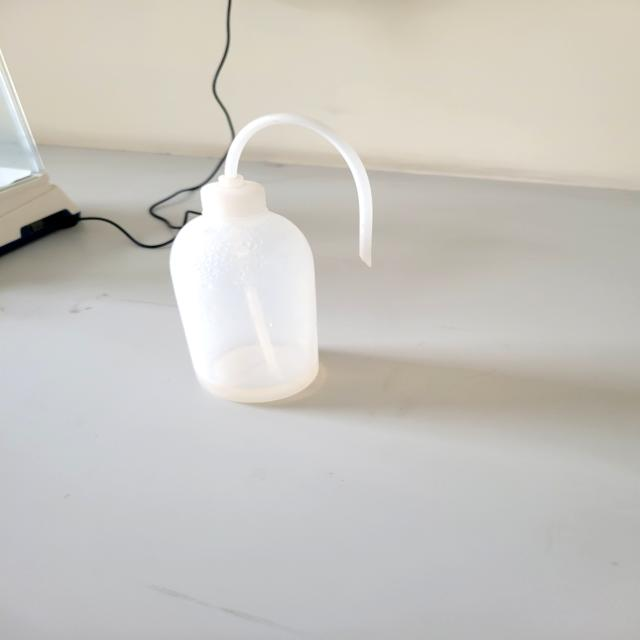Wash_Bottle: (156, 103, 390, 431)
